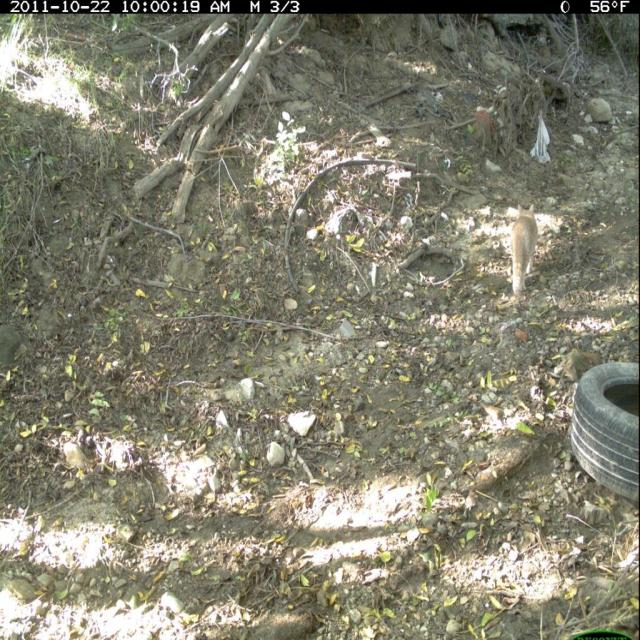cat: (507, 200, 543, 300)
